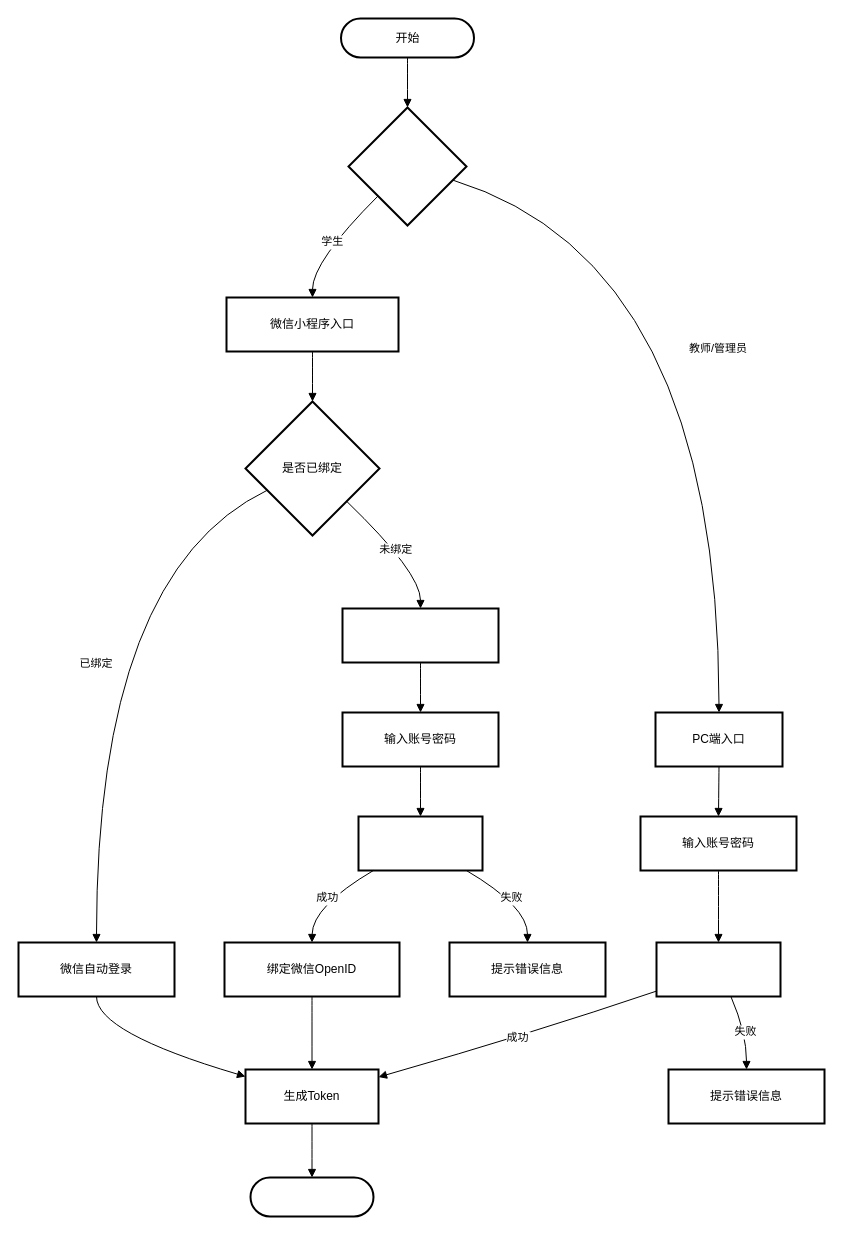
Some shapes in this 842 by 1234 pixel diagram are drawn without their labels. Each missing label, with the box of its shape:
用户类型: (347, 106, 467, 226)
系统验证: (655, 941, 781, 997)
结束: (249, 1176, 374, 1217)
跳转绑定页面: (341, 607, 499, 663)
验证身份: (357, 815, 483, 871)
